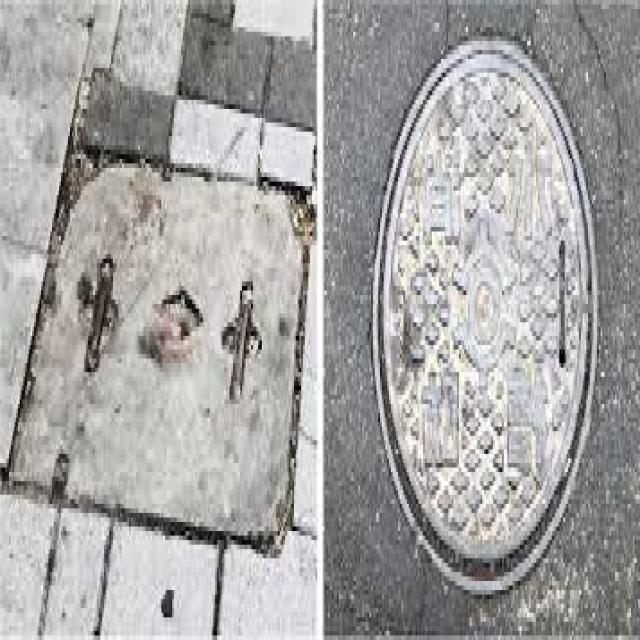Sewer Cover: (13, 71, 316, 640), (350, 43, 607, 631)
